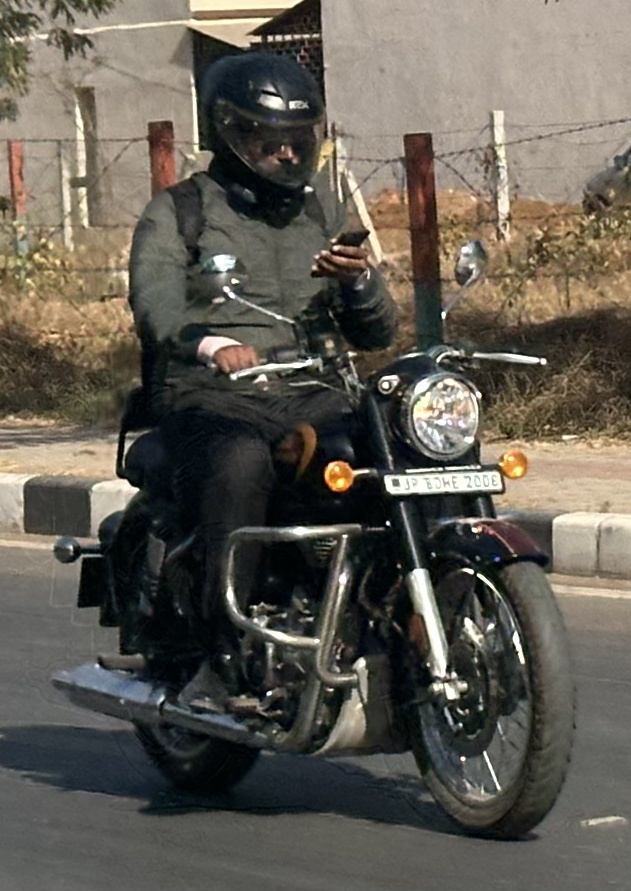BikeWithRider: (38, 42, 589, 849)
Helmet: (187, 45, 338, 205)
